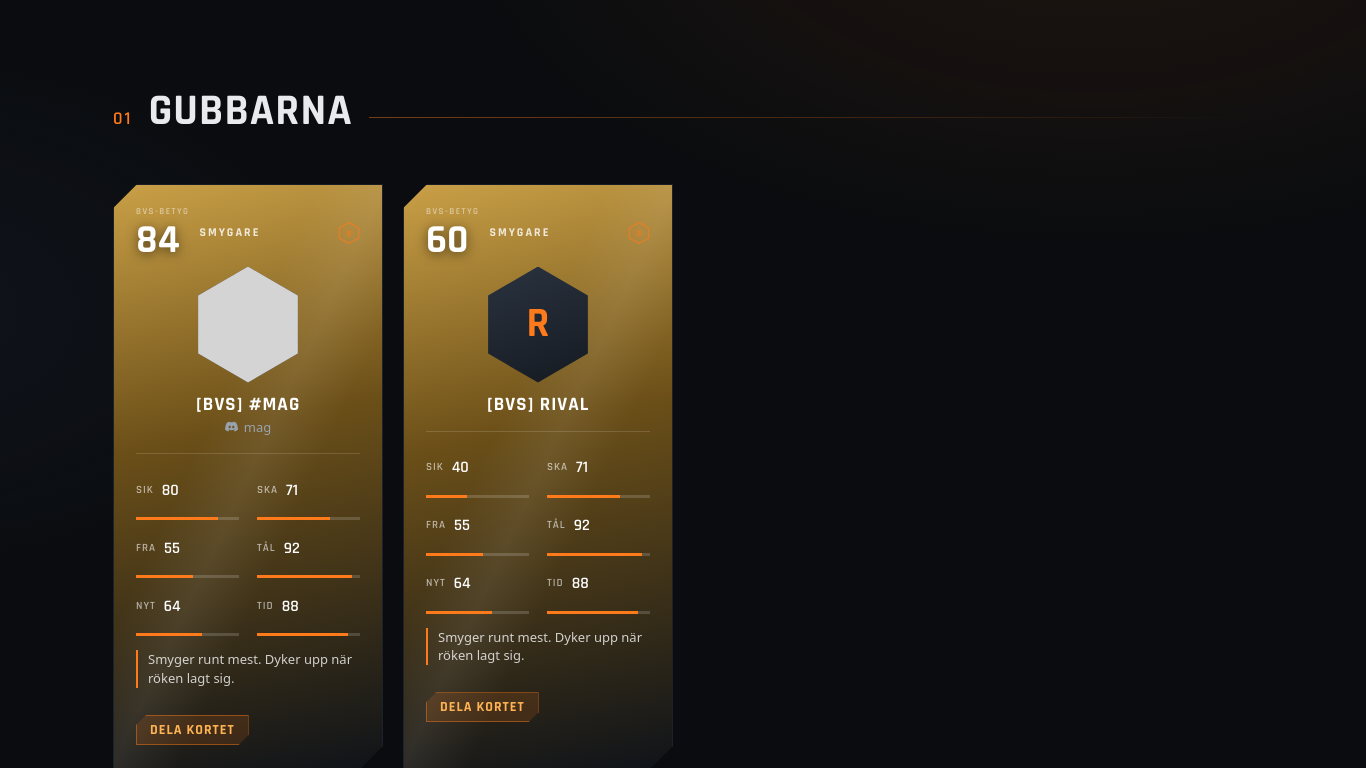
Test: comparing an attribute › explains the attribute and places him against the crew on click
Click the button "SIK 80" at (188, 490), box [136,468,239,512]
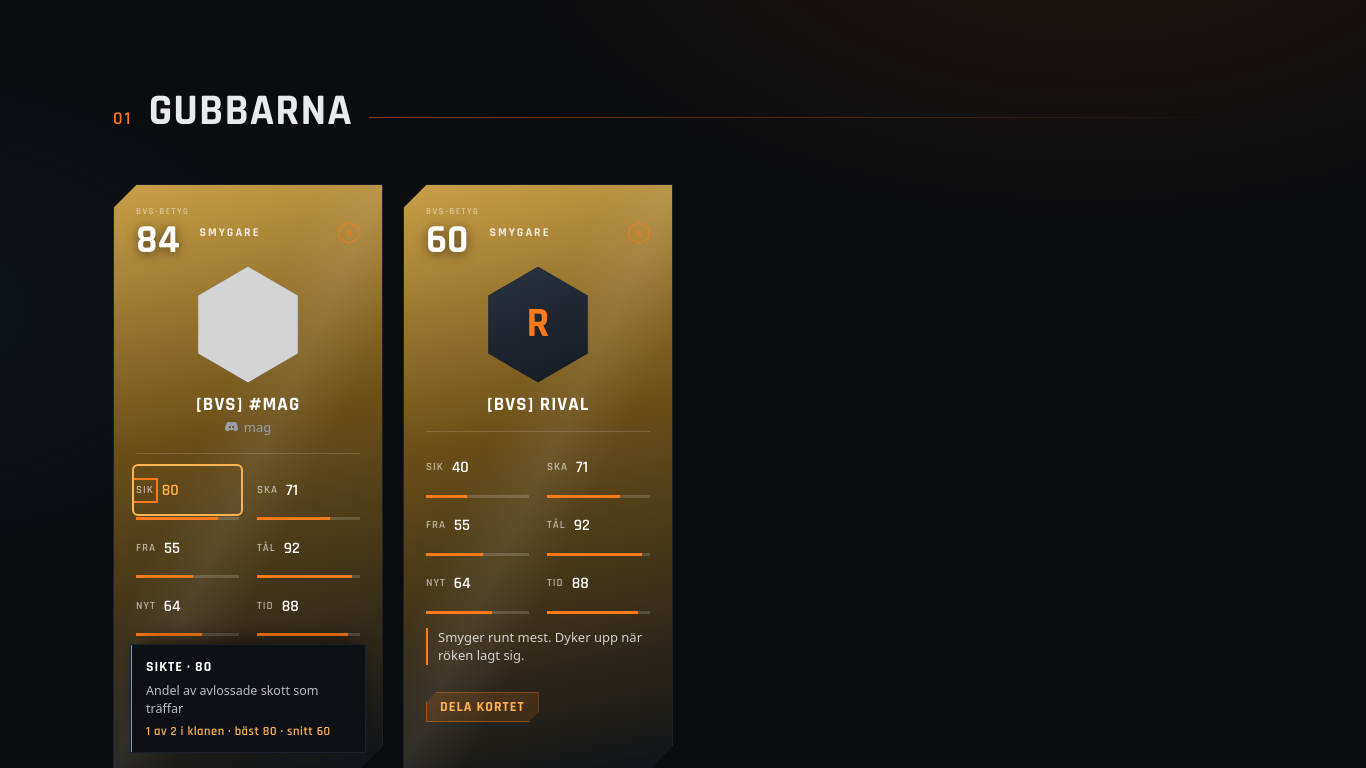
Check: the text "Andel av avlossade skott som träffar" is shown, box [146,682,318,716]
Check: the text "1 av 2 i klanen · bäst 80 · snitt 60" is shown, box [146,721,352,741]
